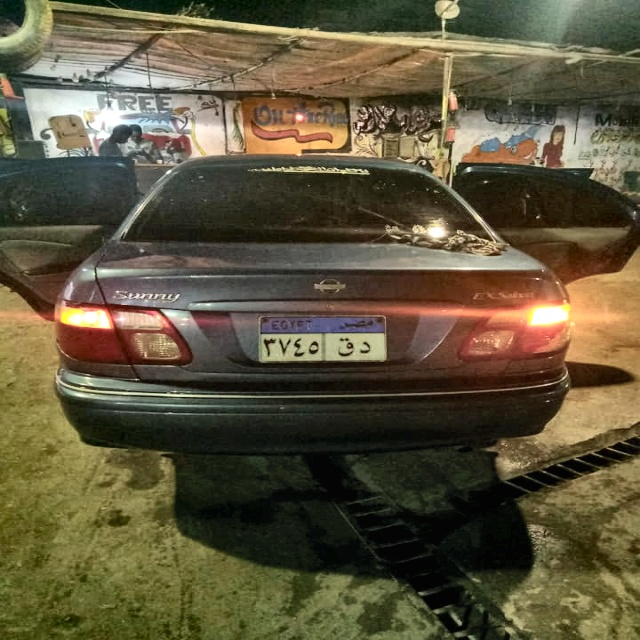License Plate: (255, 315, 390, 364)
